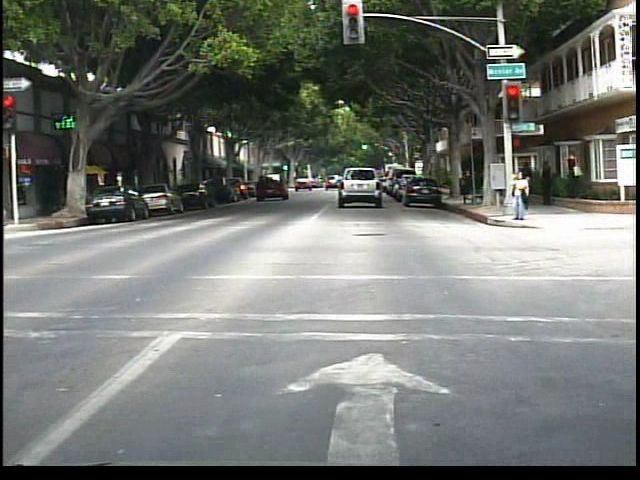person: (505, 168, 532, 223), (535, 158, 557, 213), (562, 149, 584, 200), (517, 157, 535, 206)
